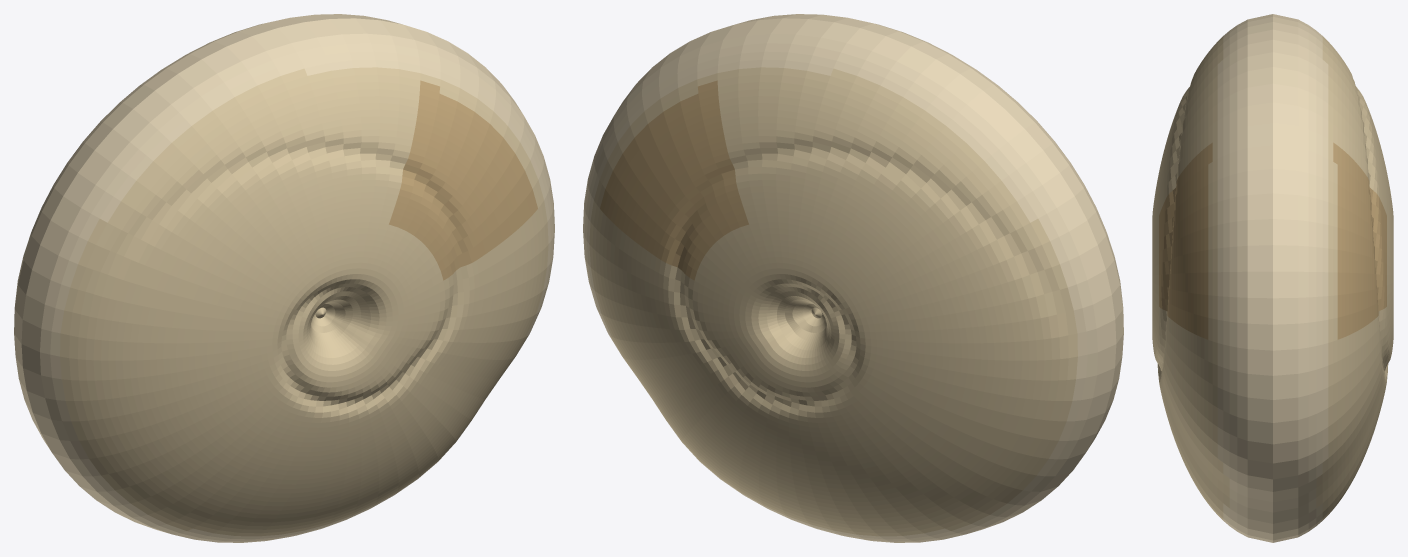
File: aturia.glb
3 views of the same model, side by side, from view 1: azimuth 30°, elevation 25°; view 2: azimuth 150°, elevation 25°; view 3: azimuth 270°, elevation 25° (orthographic). The views are drawn at different scales.
Visible parts, largest first — view 1: inflated-involute-fossil-shell; view 2: inflated-involute-fossil-shell; view 3: inflated-involute-fossil-shell.
Boxes of the visible parts, bbox=[...] form: inflated-involute-fossil-shell: bbox=[14, 14, 554, 542]; inflated-involute-fossil-shell: bbox=[583, 14, 1123, 542]; inflated-involute-fossil-shell: bbox=[1152, 14, 1393, 542].
Bounding box in the file's own units: 0.24 × 0.22 × 0.1021.
